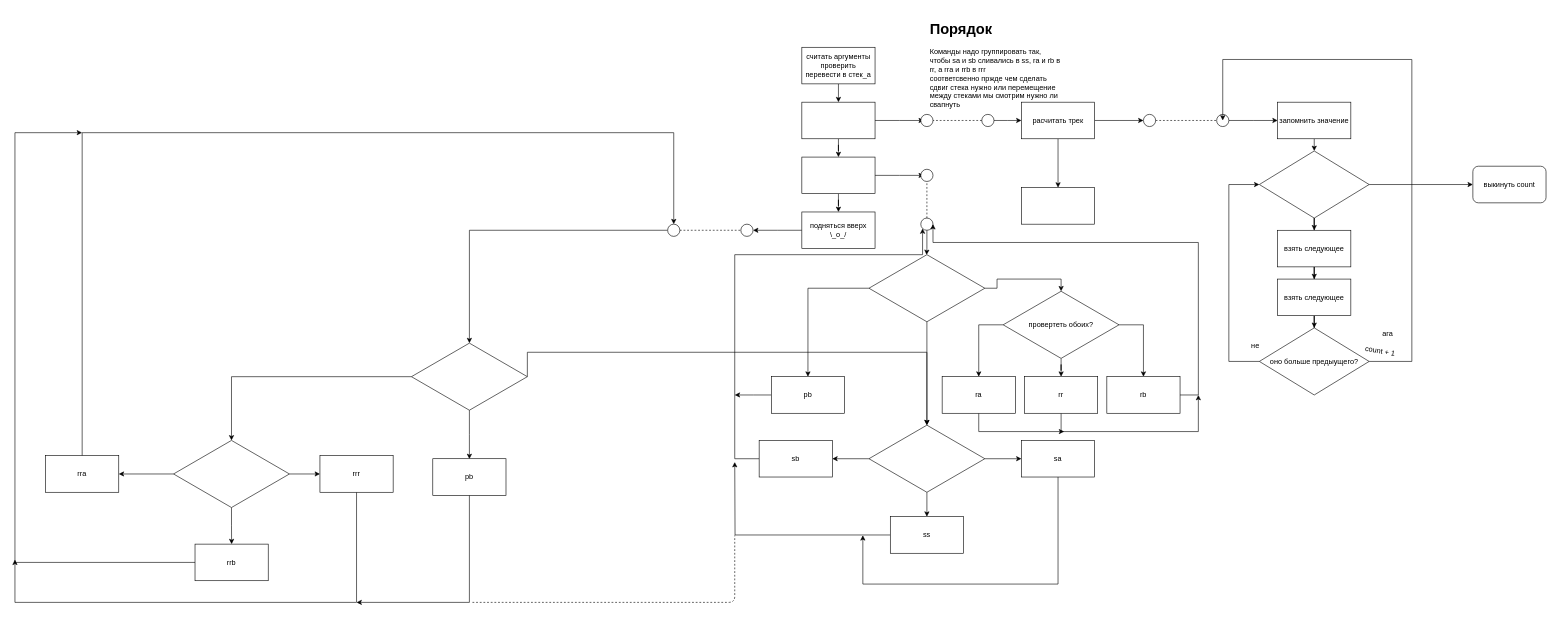
Image size: 1557x618. Some labels were removed from this diagram. Here are the shapes that lost their labels. From the top down, the centre of each, then its label:
At point (838, 120): "нормальзовать".
At point (838, 175): "спускаться вниз (как разумнее, докуда разумнее)".
At point (1314, 184): "это конец?".
At point (1058, 205): "сравнить с r и rr версиями".
At point (926, 288): "че там у хохлов?".
At point (469, 376): "че_там_у_хохлов2?".
At point (231, 474): "кого вертим?".
At point (926, 458): "свапнуть обоих?".
